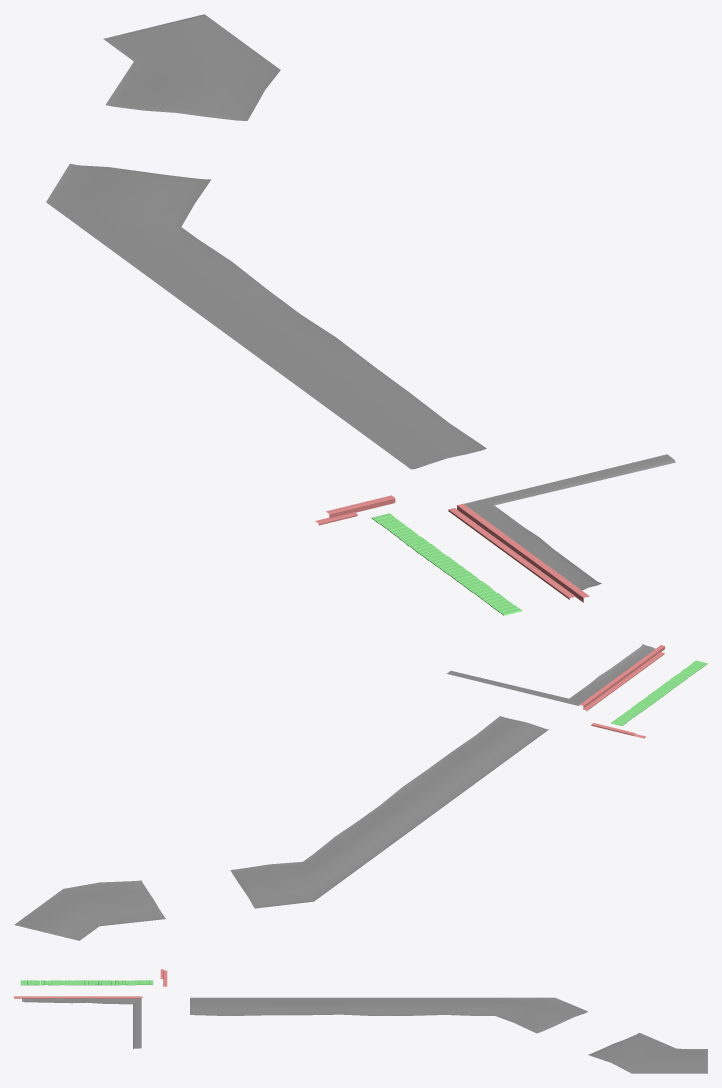
The model's file is SM_ENV_KNVLLG03_Ground_F.gltf.
3 views of the same model, one above another, from view 1: azimuth 30°, elevation 25°; view 2: azimuth 150°, elevation 25°; view 3: azimuth 270°, elevation 25° (orthographic). The views are drawn at different scales.
Visible parts, largest first — view 1: SM_ENV_KNVLLG03_Ground_F; view 2: SM_ENV_KNVLLG03_Ground_F; view 3: SM_ENV_KNVLLG03_Ground_F.
Part boxes in pixels (left/top/right/bottom): SM_ENV_KNVLLG03_Ground_F: left=46, top=14, right=675, bottom=615; SM_ENV_KNVLLG03_Ground_F: left=14, top=644, right=707, bottom=940; SM_ENV_KNVLLG03_Ground_F: left=14, top=969, right=707, bottom=1073.
Bounding box in the file's own units: 29.46 × 0.5772 × 81.71.
